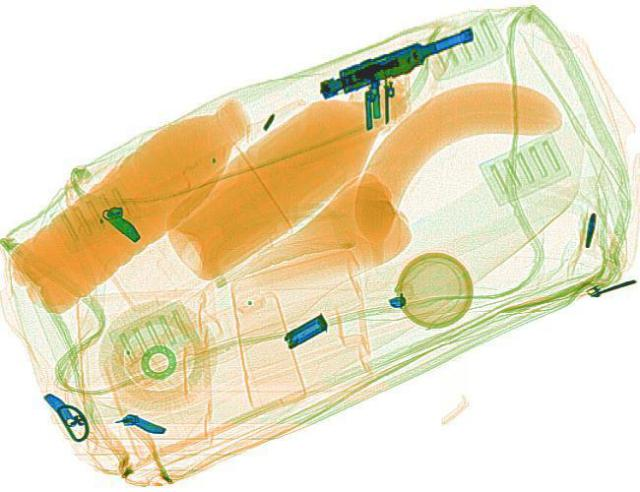Gun: (307, 19, 481, 100)
